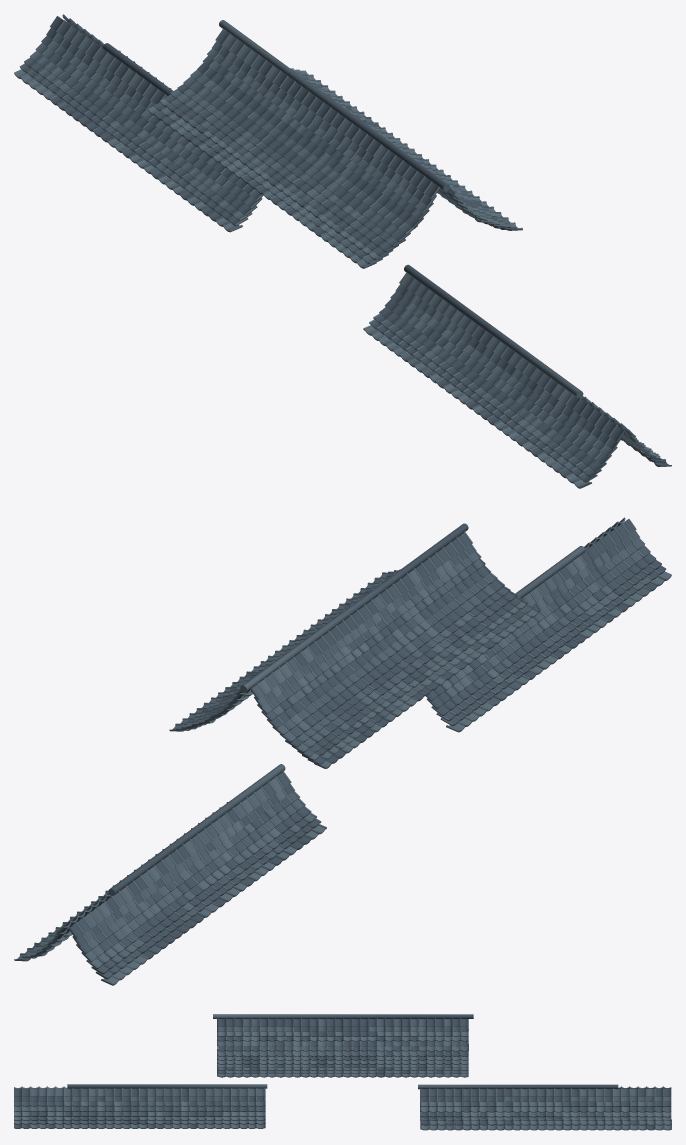
Rendered from roof.obj.
3 renders of one model, top to bottom at view 1: azimuth 30°, elevation 25°; view 2: azimuth 150°, elevation 25°; view 3: azimuth 270°, elevation 25°, orthographic. The views are drawn at different scales.
Parts seen in each view (by area): view 1: 立方体.172; view 2: 立方体.172; view 3: 立方体.172.
Boxes of the visible parts, <box> form: 立方体.172: <box>14,14,671,488</box>; 立方体.172: <box>14,517,671,985</box>; 立方体.172: <box>14,1014,671,1130</box>.
Size of the model in its own units: 118 by 121 by 727.
